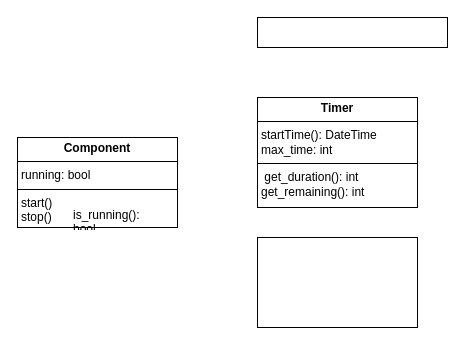
The diagram is 465 pixels wide and 345 high, and some of its shapes have lost their labels. Here are the shapes that lost their labels. From the top down, the centre of each, then its label:
At pixel 352 32: "Component classes".
At pixel 337 282: "Logger + method(): Type".
